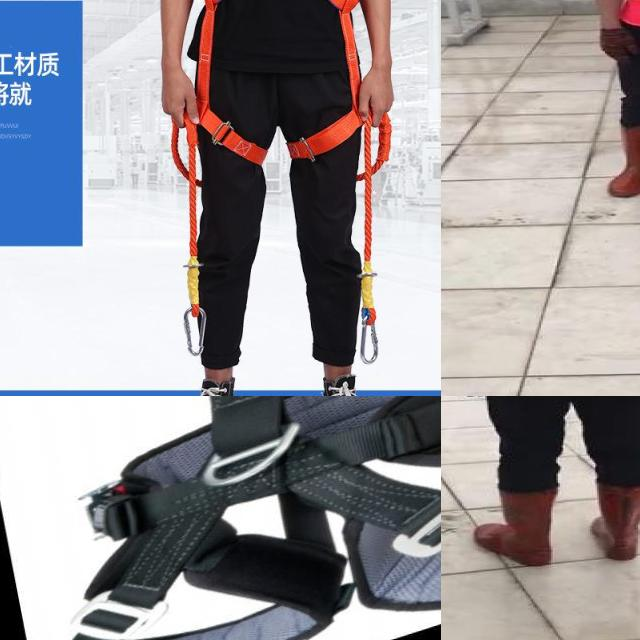Harness: (75, 396, 441, 640), (190, 0, 363, 166)
boots: (473, 489, 558, 568), (590, 482, 640, 562), (606, 122, 640, 198)
hand_glove: (596, 27, 640, 66)
person: (441, 396, 640, 582)
